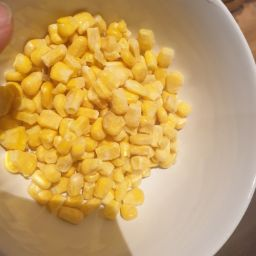Corn Kernel: (33, 9, 190, 212), (52, 12, 157, 238), (107, 15, 221, 203), (29, 28, 103, 256), (7, 59, 83, 232)
